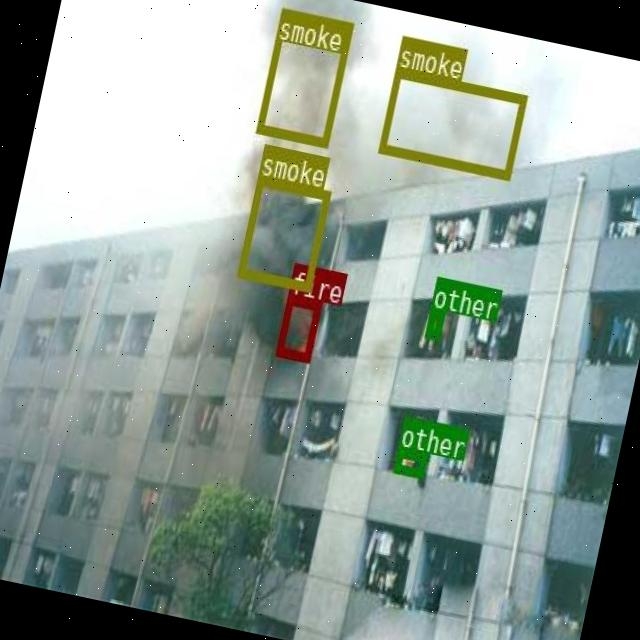fire: (275, 294, 320, 362)
smoke: (378, 66, 526, 178), (255, 6, 353, 144), (236, 175, 330, 290)
